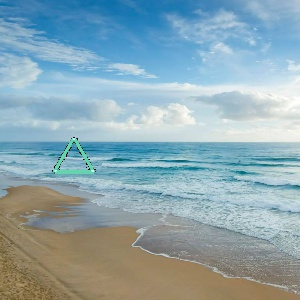triangle: (50, 134, 97, 177)
